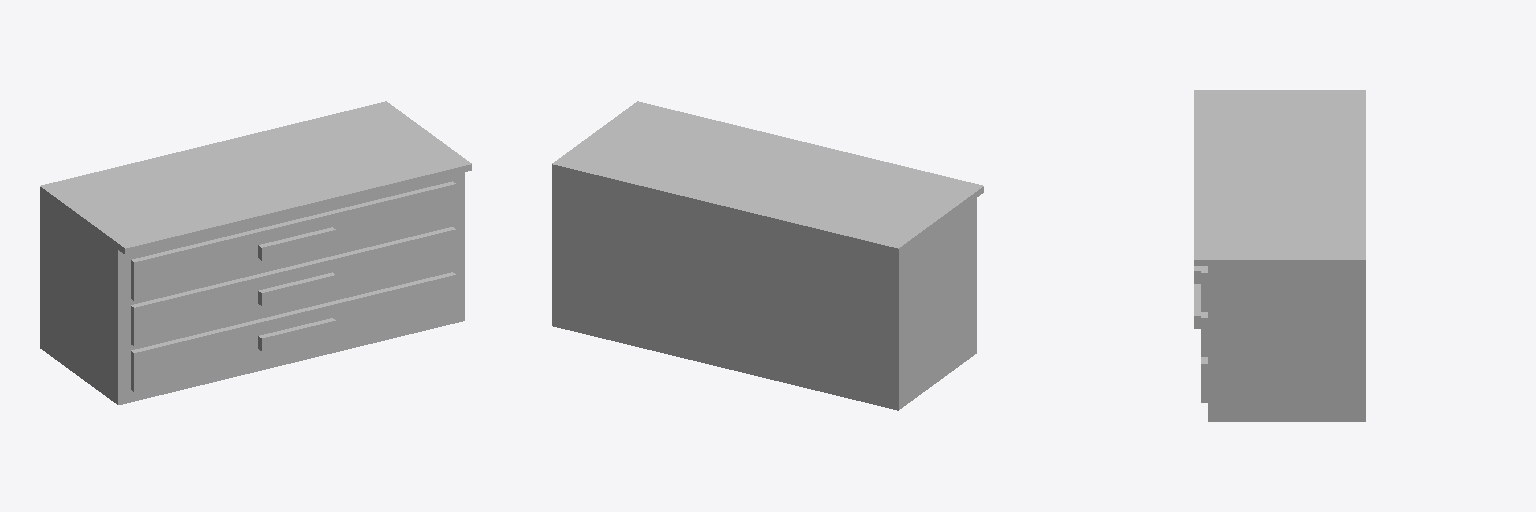
The model's file is comoda 2.obj.
3 renders of one model, left to right at view 1: azimuth 30°, elevation 25°; view 2: azimuth 150°, elevation 25°; view 3: azimuth 270°, elevation 25°, orthographic.
Visible parts, largest first — view 1: object 1; view 2: object 1; view 3: object 1.
Part boxes in pixels (bbox=[...]): object 1: bbox=[40, 101, 471, 404]; object 1: bbox=[552, 101, 983, 410]; object 1: bbox=[1194, 90, 1365, 421].
Size of the model in its own units: 5.6 by 2.5 by 2.4.